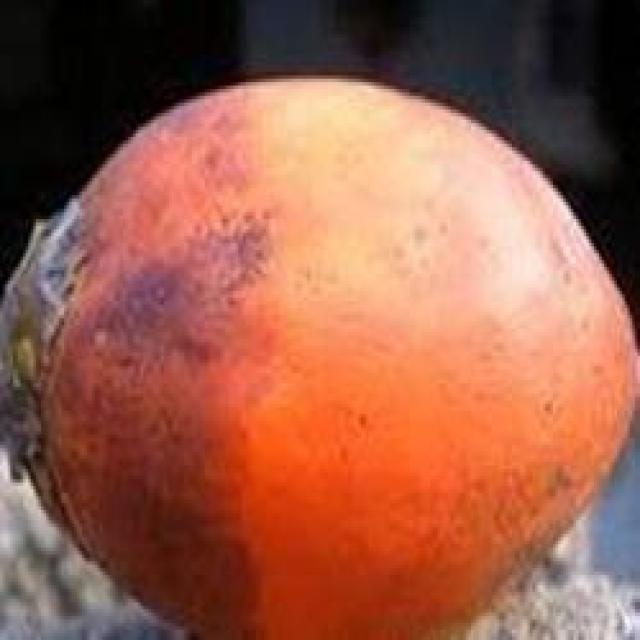good: (0, 79, 637, 637)
